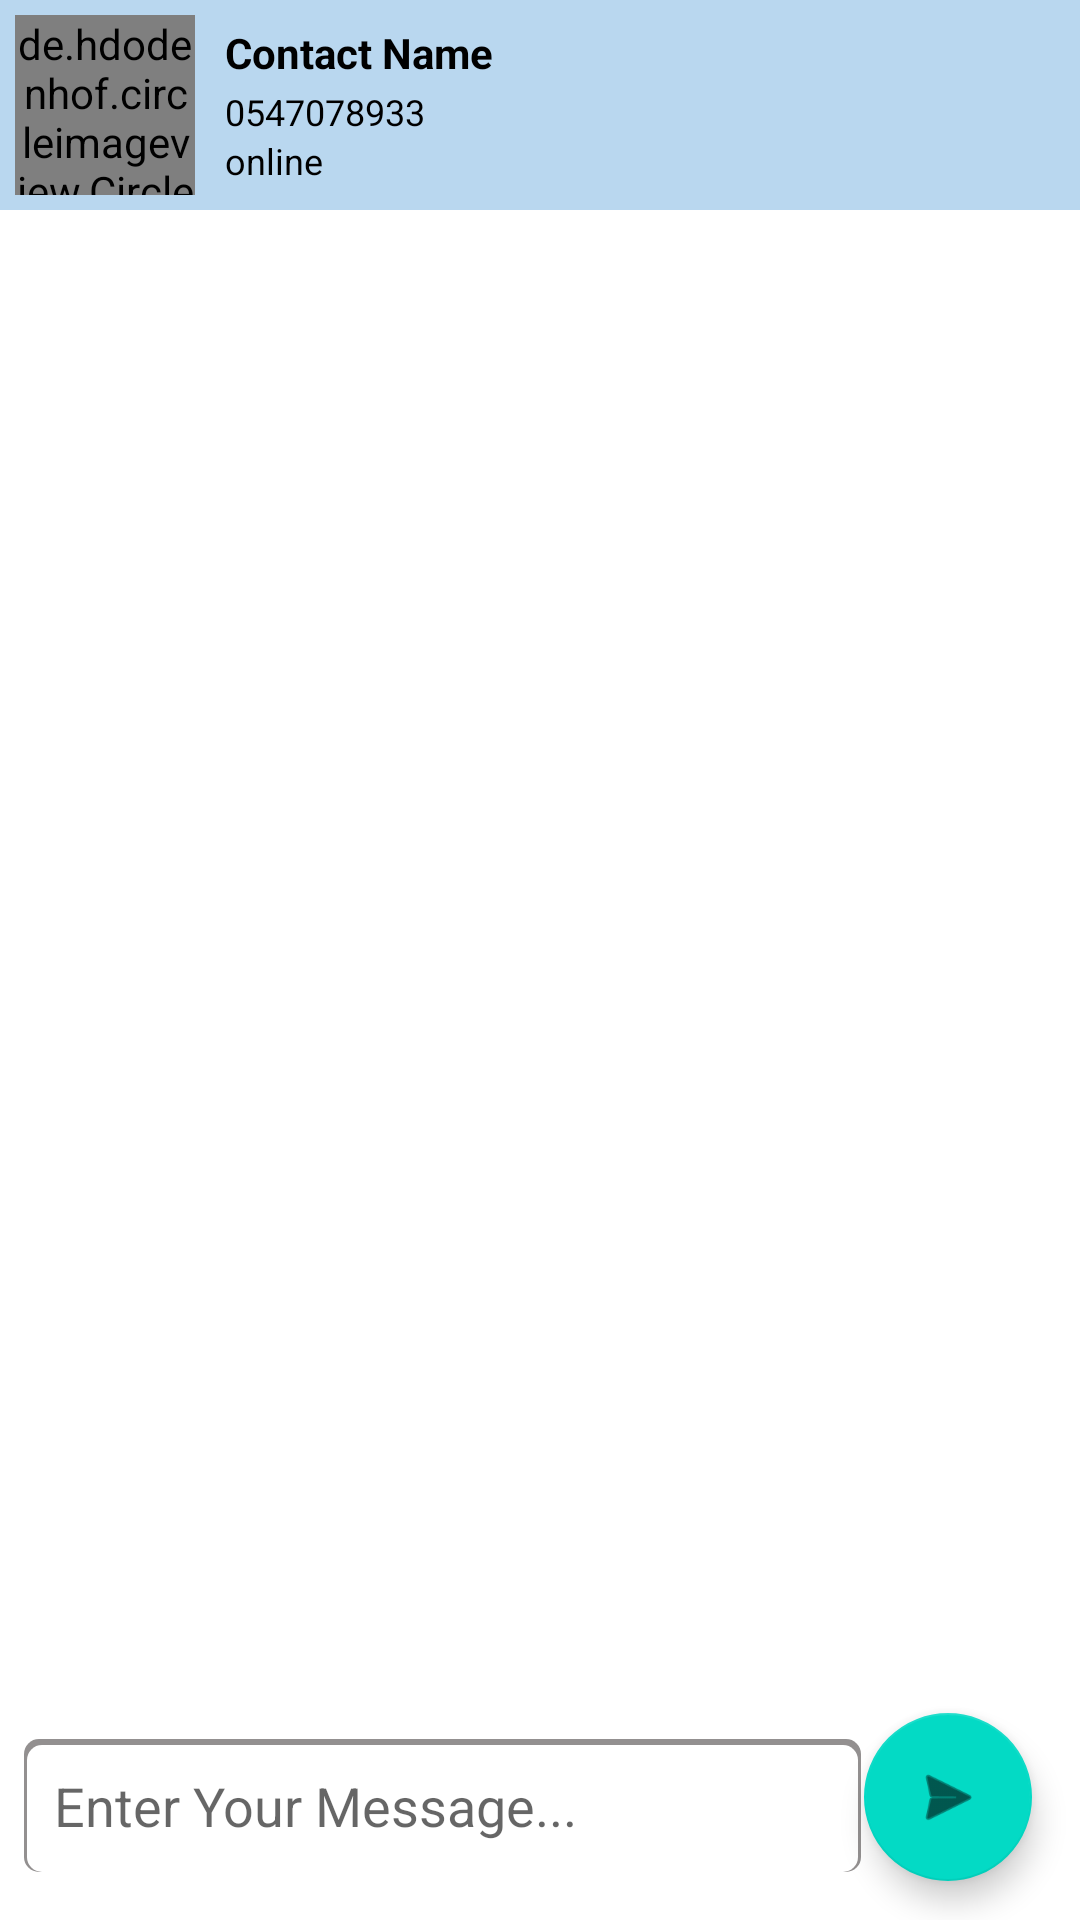

Where to tap for icons on this 1080 x 1920 app screen, as (x=x, y=y):
send: (x=948, y=1797)
